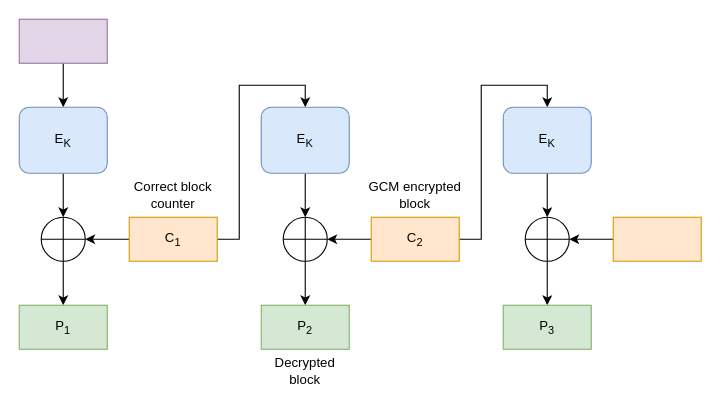
The diagram is 721 pixels wide and 413 high, and some of its shapes have lost their labels. Here are the shapes that lost their labels. From the top down, the centre of each, then its label:
At [62,40]: "IV".
At [656,238]: "C 3".
